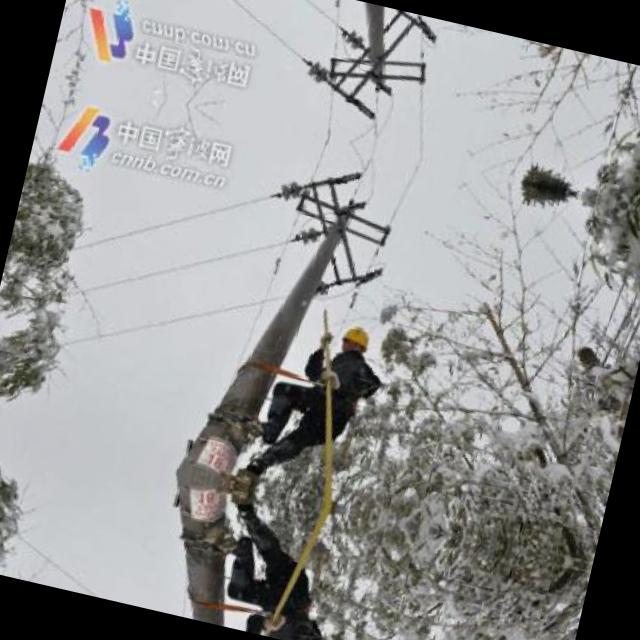helmet: (337, 319, 373, 360)
